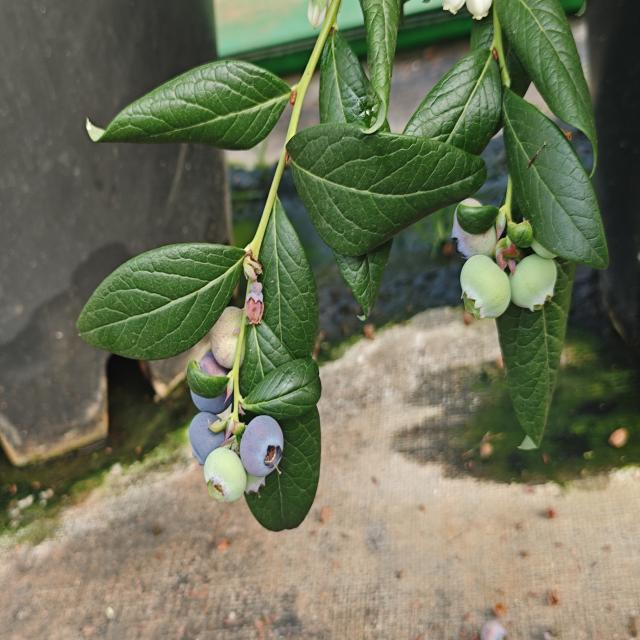ripe: (240, 411, 286, 479), (189, 347, 228, 415), (188, 406, 230, 468)
